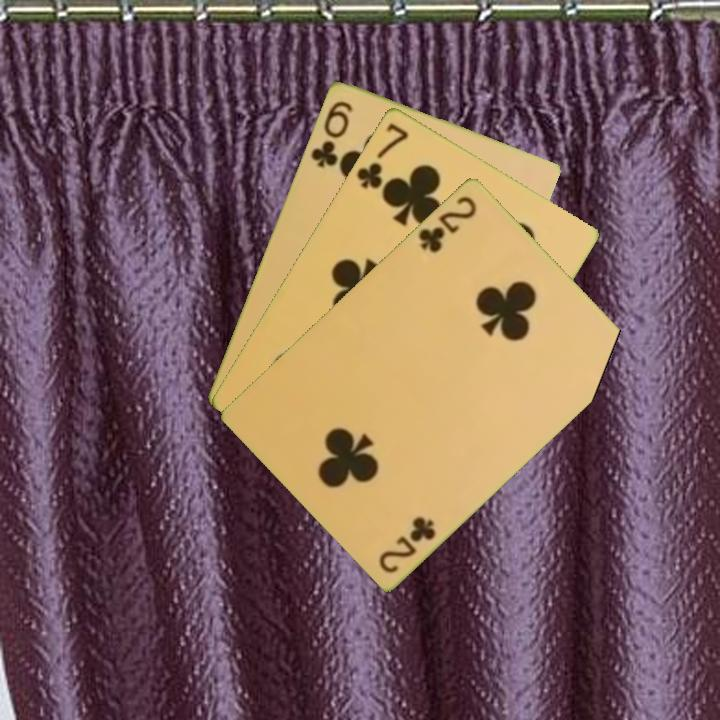2c: (414, 192, 480, 256), (375, 512, 439, 576)
6c: (307, 96, 355, 170)
7c: (352, 119, 412, 191)
